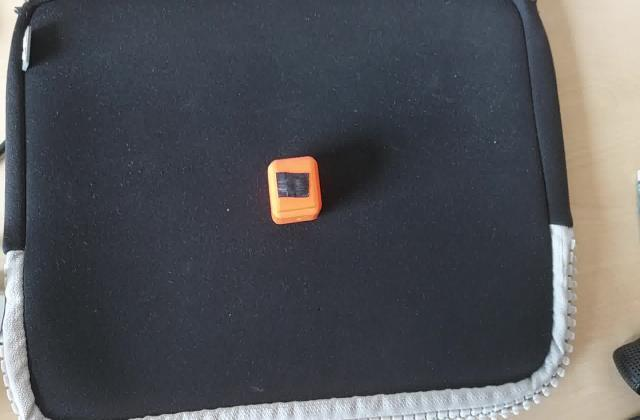black: (272, 169, 314, 202)
sticker: (265, 154, 324, 228)
